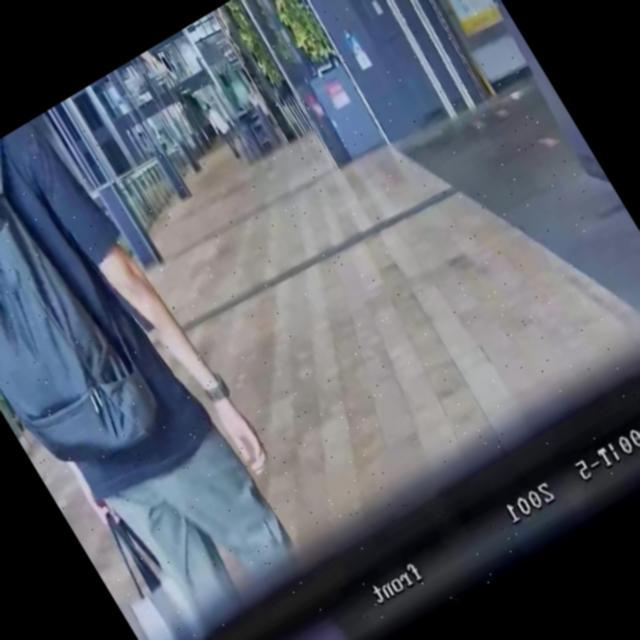person: (0, 103, 318, 637), (202, 100, 246, 161)
